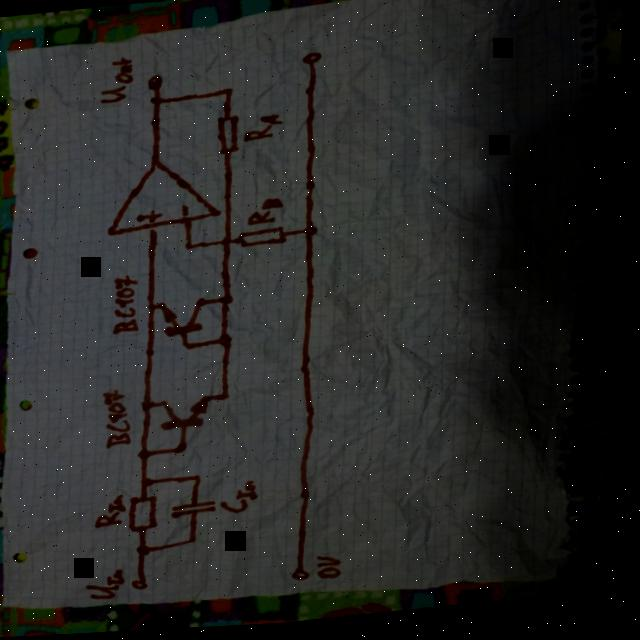capacitor: (175, 500, 225, 523)
junction: (304, 226, 324, 242), (221, 336, 239, 352), (141, 545, 161, 559), (143, 477, 163, 491), (221, 296, 240, 309), (180, 444, 197, 457), (142, 450, 159, 463), (145, 401, 160, 415), (149, 97, 165, 109), (192, 537, 208, 549), (223, 88, 237, 100), (185, 242, 199, 254), (197, 475, 211, 487), (185, 342, 198, 354), (222, 239, 236, 250), (224, 394, 238, 405), (150, 304, 161, 313)
resistor: (133, 494, 168, 536), (241, 228, 291, 252), (216, 116, 244, 158)
terminal: (300, 54, 326, 70), (147, 75, 167, 94), (298, 571, 319, 586), (137, 579, 158, 594)
text: (103, 388, 141, 452), (113, 275, 147, 337), (98, 57, 138, 106), (224, 482, 268, 518), (92, 570, 135, 604), (242, 114, 287, 145), (98, 495, 136, 531), (248, 199, 289, 230), (321, 557, 352, 585)
transistor: (161, 395, 221, 434), (161, 299, 214, 341)
